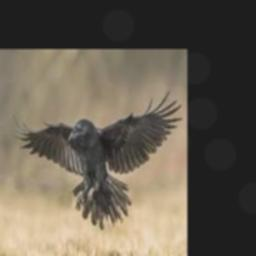Crow: (12, 89, 182, 228)
